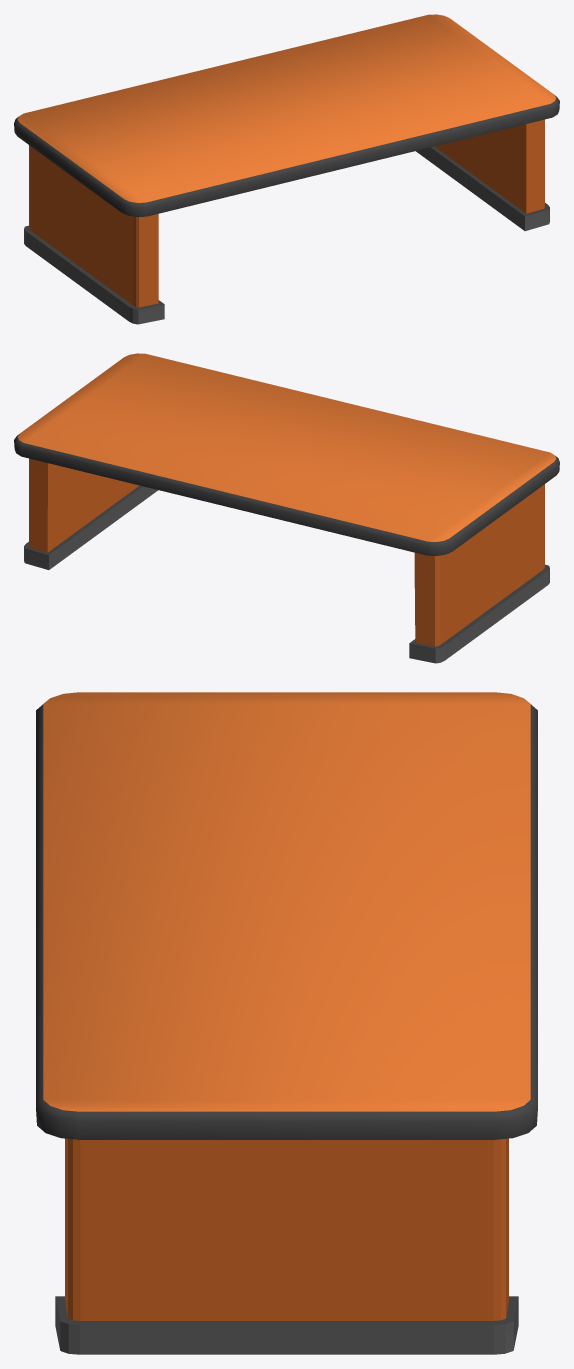
Rendered from Tea Table .fbx.
3 renders of one model, top to bottom at view 1: azimuth 30°, elevation 25°; view 2: azimuth 150°, elevation 25°; view 3: azimuth 270°, elevation 25°, orthographic. The views are drawn at different scales.
Parts seen in each view (by area): view 1: Tea Table; view 2: Tea Table; view 3: Tea Table.
Boxes of the visible parts, x1=… form: Tea Table: x1=14, y1=14, x2=559, y2=324; Tea Table: x1=14, y1=353, x2=559, y2=663; Tea Table: x1=36, y1=692, x2=537, y2=1354.
Bounding box in the file's own units: 18.07 × 4.92 × 9.01.
